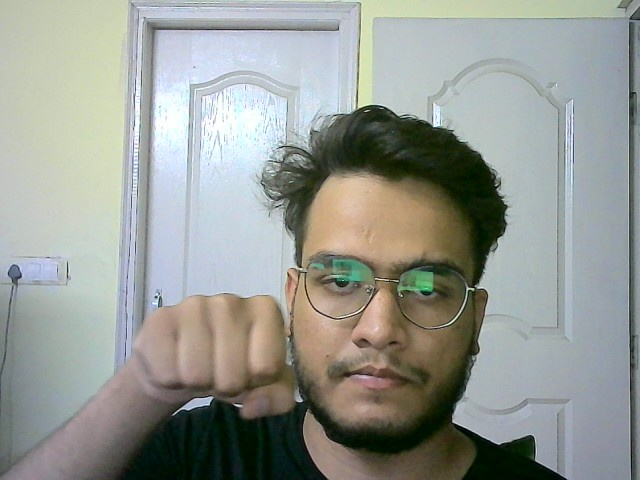Yes: (131, 285, 305, 434)
